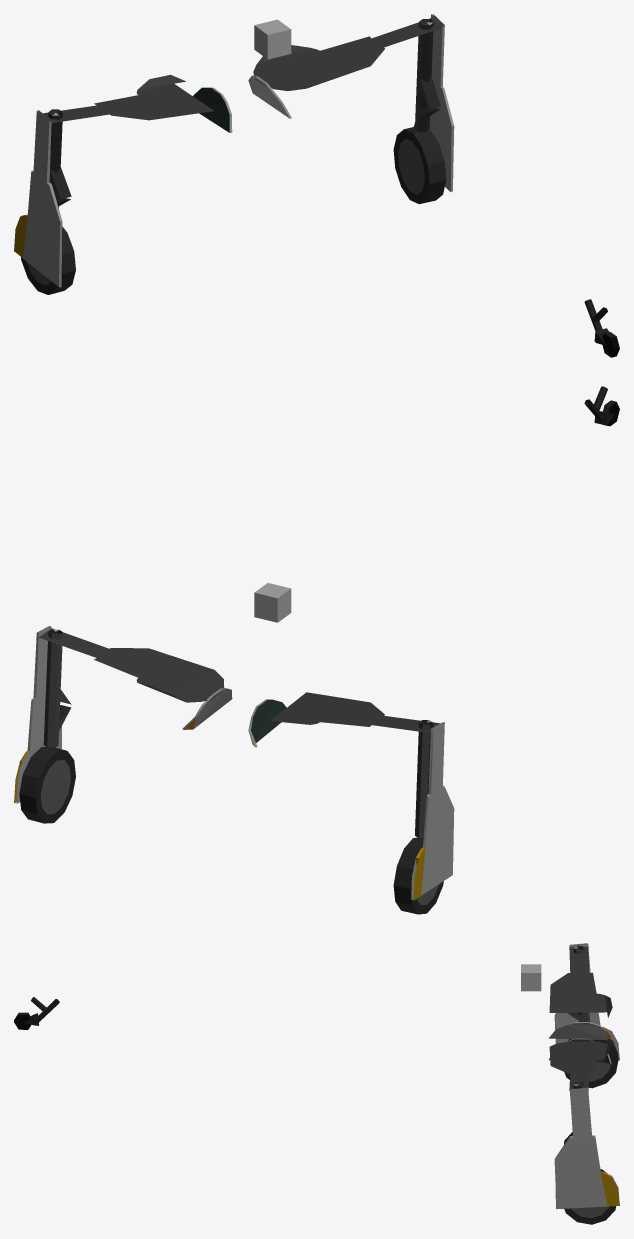
File: Gear_KI61B.obj
The picture shows the model from 3 angles, top to bottom: view 1: azimuth 30°, elevation 25°; view 2: azimuth 150°, elevation 25°; view 3: azimuth 270°, elevation 25°; orthographic projection. The views are drawn at different scales.
Parts seen in each view (by area): view 1: ShapeIndexedFaceSet.061_ShapeIndexedFaceSet.062, ShapeIndexedFaceSet.047_ShapeIndexedFaceSet.048, ShapeIndexedFaceSet.043_ShapeIndexedFaceSet.044, ShapeIndexedFaceSet.049_ShapeIndexedFaceSet.050, ShapeIndexedFaceSet.041_ShapeIndexedFaceSet.042, Cube, ShapeIndexedFaceSet.044_ShapeIndexedFaceSet.045, ShapeIndexedFaceSet.058_ShapeIndexedFaceSet.059, ShapeIndexedFaceSet.053_ShapeIndexedFaceSet.054, ShapeIndexedFaceSet.042_ShapeIndexedFaceSet.043, ShapeIndexedFaceSet.059_ShapeIndexedFaceSet.060; view 2: ShapeIndexedFaceSet.061_ShapeIndexedFaceSet.062, ShapeIndexedFaceSet.047_ShapeIndexedFaceSet.048, ShapeIndexedFaceSet.043_ShapeIndexedFaceSet.044, ShapeIndexedFaceSet.041_ShapeIndexedFaceSet.042, ShapeIndexedFaceSet.042_ShapeIndexedFaceSet.043, ShapeIndexedFaceSet.049_ShapeIndexedFaceSet.050, ShapeIndexedFaceSet.048_ShapeIndexedFaceSet.049, Cube, ShapeIndexedFaceSet.044_ShapeIndexedFaceSet.045, ShapeIndexedFaceSet.058_ShapeIndexedFaceSet.059, ShapeIndexedFaceSet.053_ShapeIndexedFaceSet.054; view 3: ShapeIndexedFaceSet.061_ShapeIndexedFaceSet.062, ShapeIndexedFaceSet.041_ShapeIndexedFaceSet.042, ShapeIndexedFaceSet.056_ShapeIndexedFaceSet.057, ShapeIndexedFaceSet.047_ShapeIndexedFaceSet.048, ShapeIndexedFaceSet.049_ShapeIndexedFaceSet.050, Cube, ShapeIndexedFaceSet.043_ShapeIndexedFaceSet.044, ShapeIndexedFaceSet.046_ShapeIndexedFaceSet.047, ShapeIndexedFaceSet.059_ShapeIndexedFaceSet.060.
Part boxes in pixels (x1,y1,x2,y2): ShapeIndexedFaceSet.061_ShapeIndexedFaceSet.062: (43,18,444,123); ShapeIndexedFaceSet.047_ShapeIndexedFaceSet.048: (23,110,62,287); ShapeIndexedFaceSet.043_ShapeIndexedFaceSet.044: (393,19,446,204); ShapeIndexedFaceSet.049_ShapeIndexedFaceSet.050: (21,112,75,294); ShapeIndexedFaceSet.041_ShapeIndexedFaceSet.042: (413,14,454,191); Cube: (254,19,291,59); ShapeIndexedFaceSet.044_ShapeIndexedFaceSet.045: (398,138,424,194); ShapeIndexedFaceSet.058_ShapeIndexedFaceSet.059: (193,87,229,132); ShapeIndexedFaceSet.053_ShapeIndexedFaceSet.054: (248,75,291,118); ShapeIndexedFaceSet.042_ShapeIndexedFaceSet.043: (415,19,430,131); ShapeIndexedFaceSet.059_ShapeIndexedFaceSet.060: (584,299,616,345); ShapeIndexedFaceSet.061_ShapeIndexedFaceSet.062: (36,628,440,733); ShapeIndexedFaceSet.047_ShapeIndexedFaceSet.048: (411,722,454,899); ShapeIndexedFaceSet.043_ShapeIndexedFaceSet.044: (19,629,75,823); ShapeIndexedFaceSet.041_ShapeIndexedFaceSet.042: (16,626,61,803); ShapeIndexedFaceSet.042_ShapeIndexedFaceSet.043: (43,632,71,747); ShapeIndexedFaceSet.049_ShapeIndexedFaceSet.050: (393,720,443,914); ShapeIndexedFaceSet.048_ShapeIndexedFaceSet.049: (415,720,430,838); Cube: (254,583,291,622); ShapeIndexedFaceSet.044_ShapeIndexedFaceSet.045: (40,760,70,814); ShapeIndexedFaceSet.058_ShapeIndexedFaceSet.059: (251,699,286,742); ShapeIndexedFaceSet.053_ShapeIndexedFaceSet.054: (182,688,232,729); ShapeIndexedFaceSet.061_ShapeIndexedFaceSet.062: (549,946,612,1091); ShapeIndexedFaceSet.041_ShapeIndexedFaceSet.042: (554,1087,619,1208); ShapeIndexedFaceSet.056_ShapeIndexedFaceSet.057: (549,1022,607,1040); ShapeIndexedFaceSet.047_ShapeIndexedFaceSet.048: (554,943,619,1060); ShapeIndexedFaceSet.049_ShapeIndexedFaceSet.050: (564,946,618,1088); Cube: (521,964,541,991); ShapeIndexedFaceSet.043_ShapeIndexedFaceSet.044: (564,1082,616,1224); ShapeIndexedFaceSet.046_ShapeIndexedFaceSet.047: (600,1172,619,1206); ShapeIndexedFaceSet.059_ShapeIndexedFaceSet.060: (19,997,59,1025).
Bounding box in the file's own units: 34.16 × 20.11 × 59.76.
